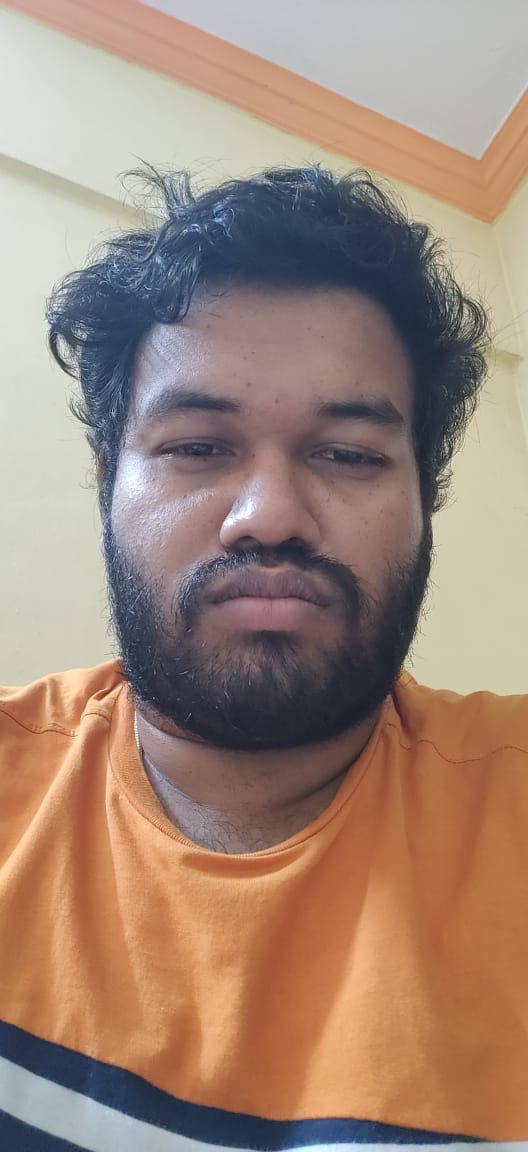Half Asleep: (127, 413, 426, 495)
